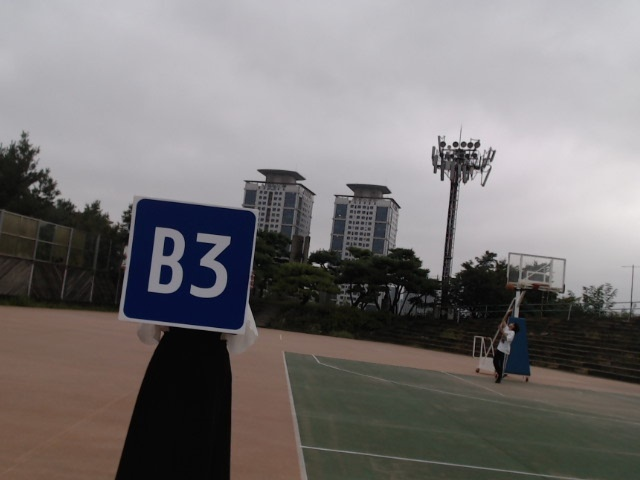delivery_b3: (121, 194, 259, 332)
